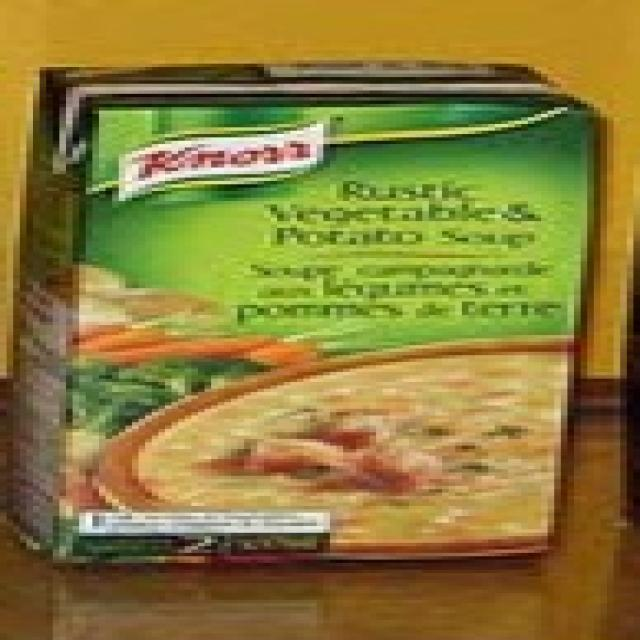drink carton: (5, 46, 640, 582)
